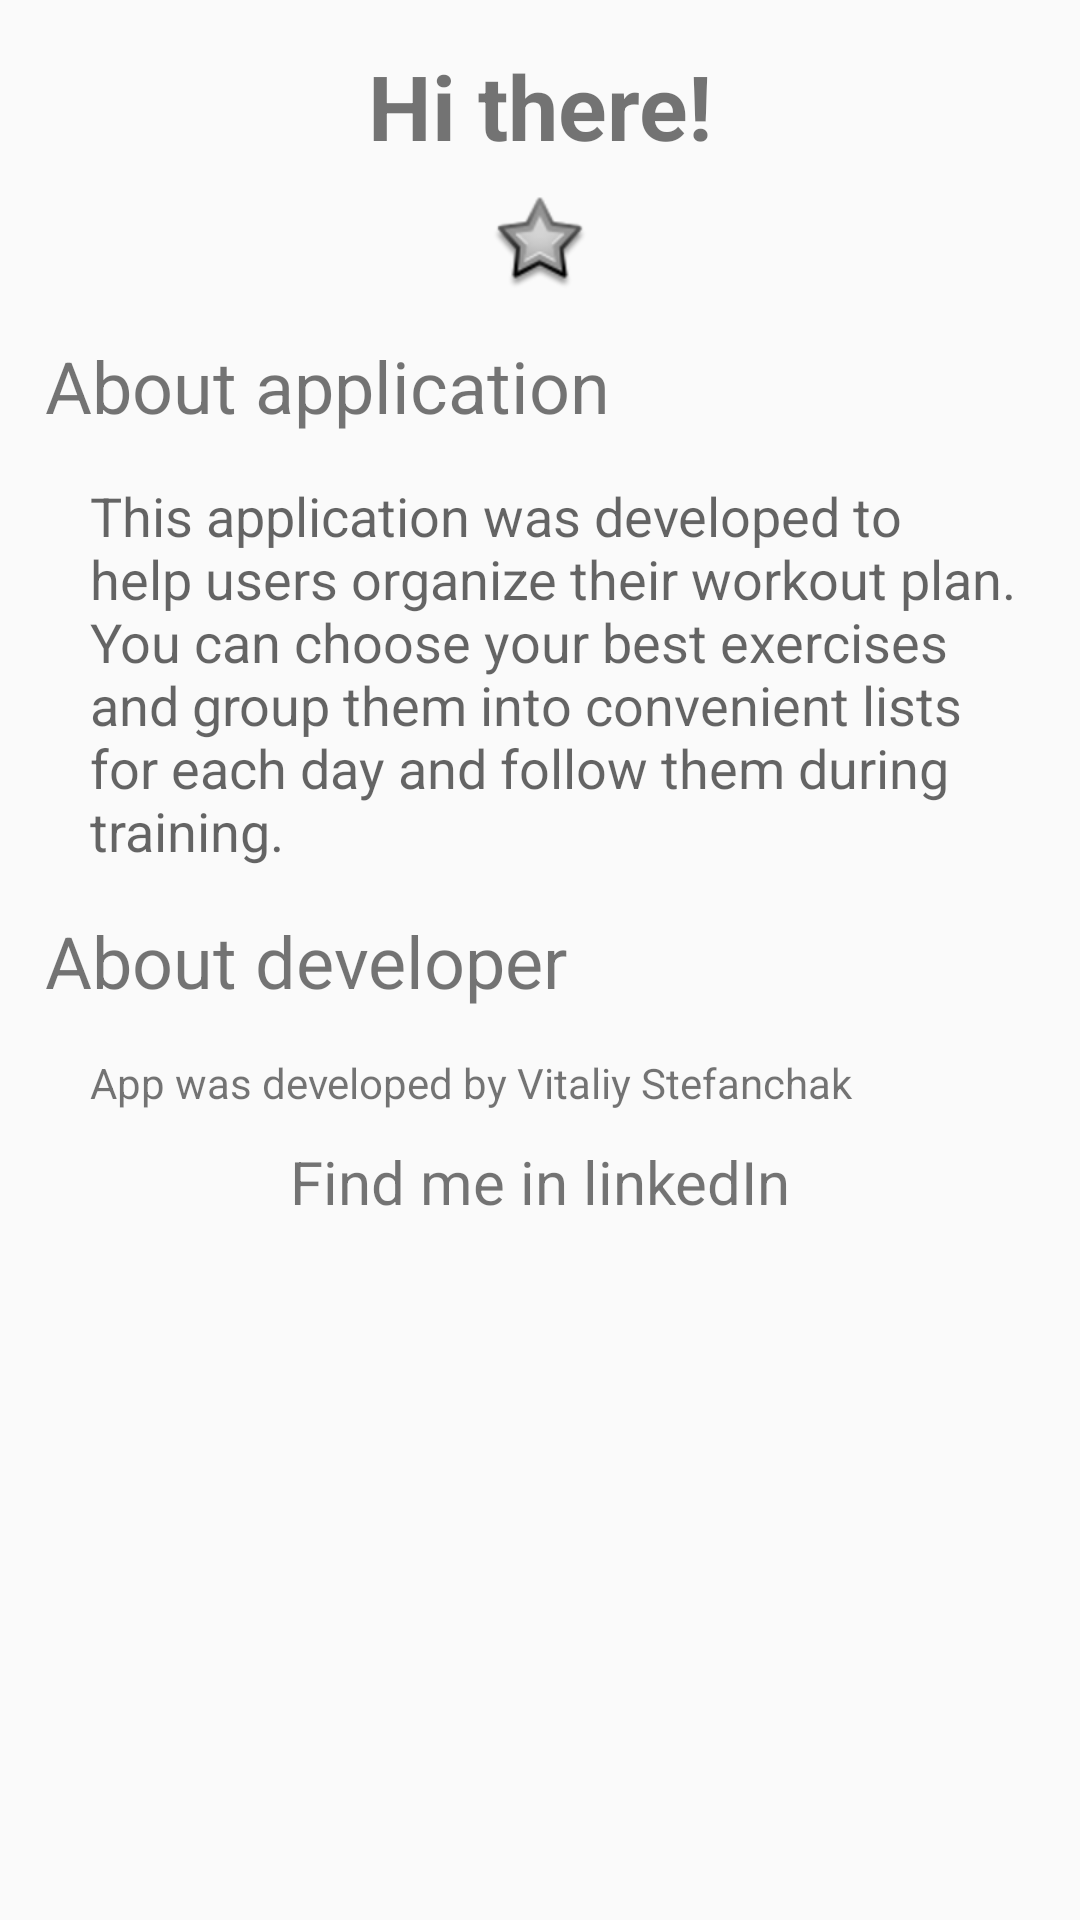

Screen size 1080px×1920px. Icon name, then its box in pixels as (x1, y1, x2, y2):
star off: (497, 197, 583, 284)
